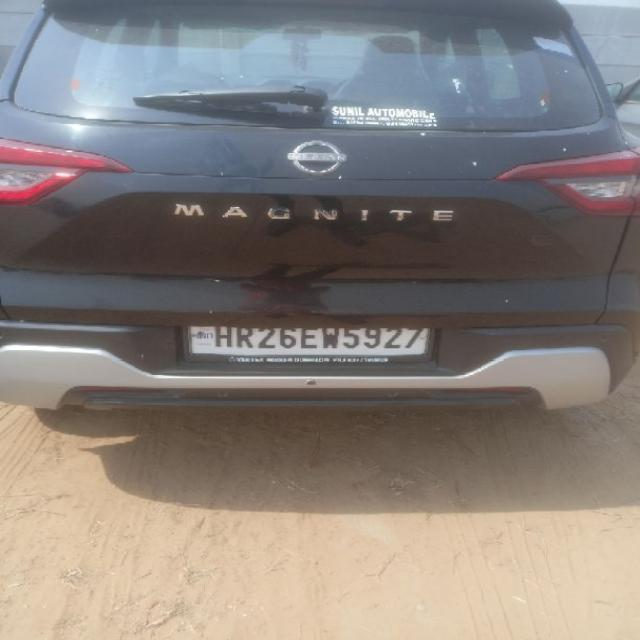license_plate: (178, 323, 437, 365)
